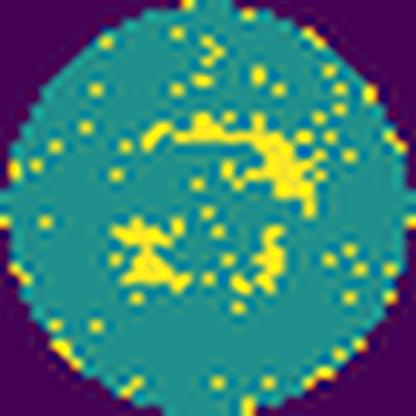Donut: (95, 105, 325, 326)
